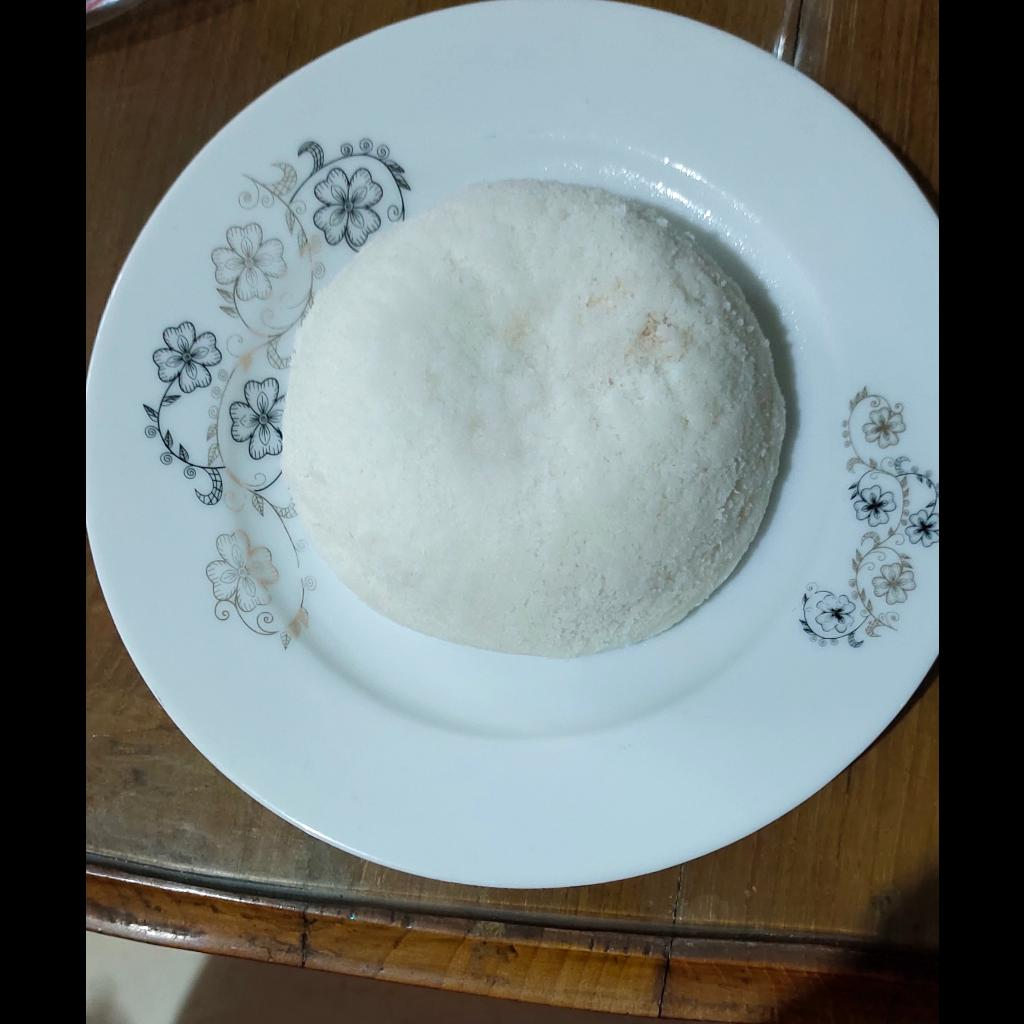sweets: (281, 181, 794, 652)
